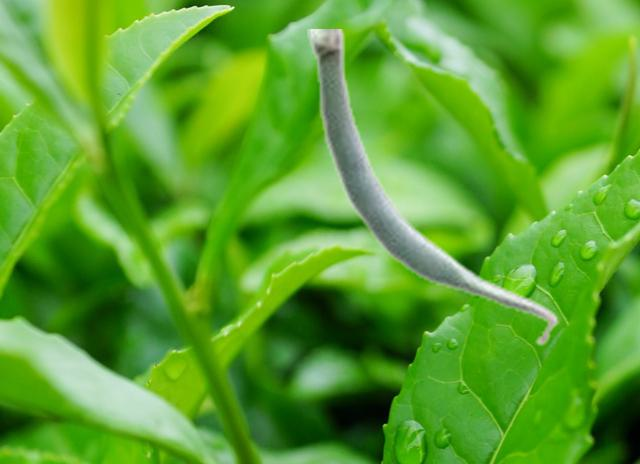french_bean: (307, 29, 558, 347)
